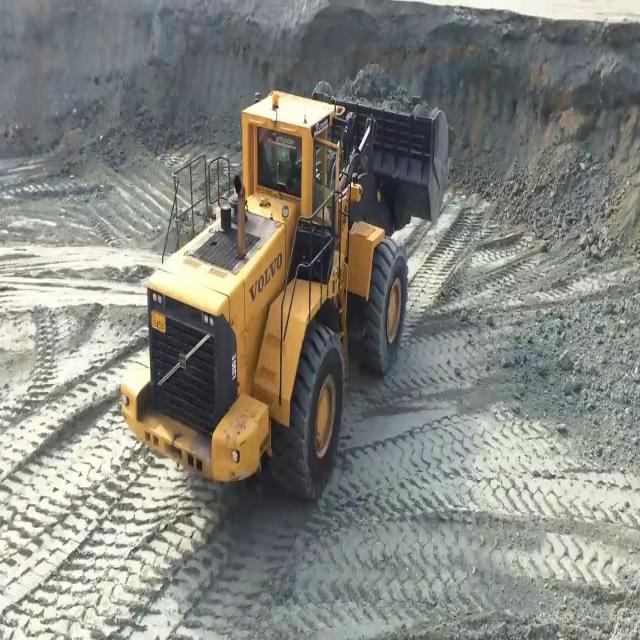Loader: (118, 79, 450, 506)
